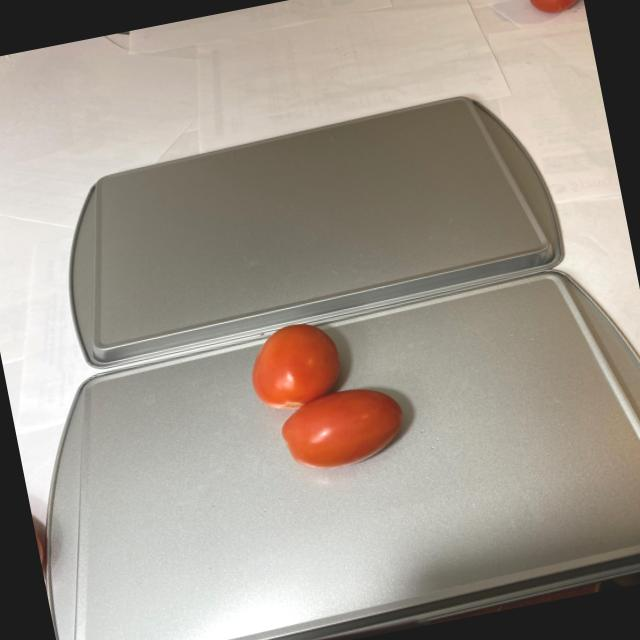tomato: (238, 306, 411, 481), (518, 0, 586, 24)
